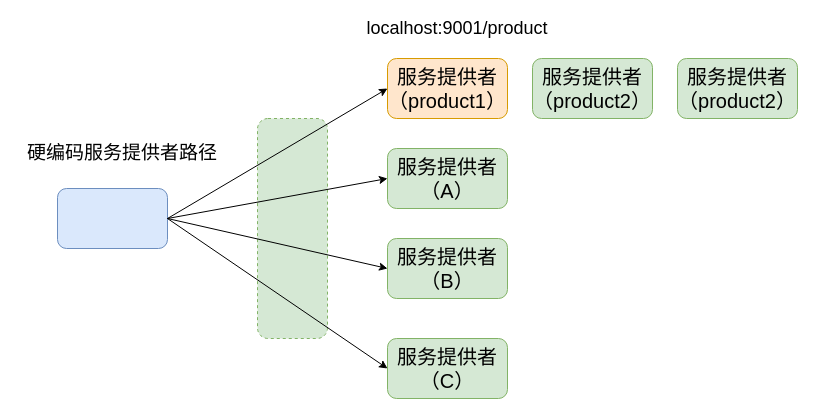
The diagram is 815 pixels wide and 416 high, and some of its shapes have lost their labels. Each missing label, with the box of its shape:
服务调用者 （order）: (56, 188, 168, 248)
网 关: (256, 118, 328, 338)
